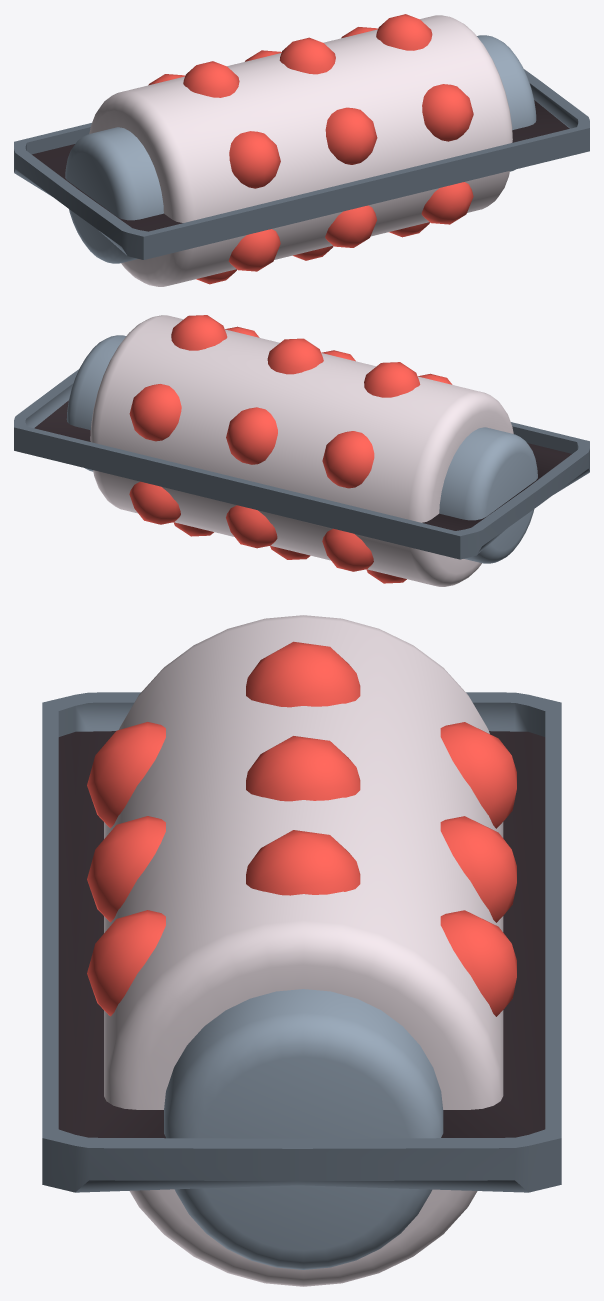
The model's file is HorizontalGrinder.fbx.
3 views of the same model, one above another, from view 1: azimuth 30°, elevation 25°; view 2: azimuth 150°, elevation 25°; view 3: azimuth 270°, elevation 25° (orthographic). The views are drawn at different scales.
Parts seen in each view (by area): view 1: HorizontalGrinder, HorizontalGrinderBase; view 2: HorizontalGrinder, HorizontalGrinderBase; view 3: HorizontalGrinder, HorizontalGrinderBase.
Boxes of the visible parts, x1=… form: HorizontalGrinder: x1=65, y1=14, x2=536, y2=286; HorizontalGrinderBase: x1=14, y1=69, x2=589, y2=259; HorizontalGrinder: x1=66, y1=315, x2=537, y2=586; HorizontalGrinderBase: x1=14, y1=369, x2=589, y2=559; HorizontalGrinder: x1=87, y1=615, x2=516, y2=1286; HorizontalGrinderBase: x1=42, y1=692, x2=561, y2=1192.
Bounding box in the file's own units: 304 × 135 × 146.
